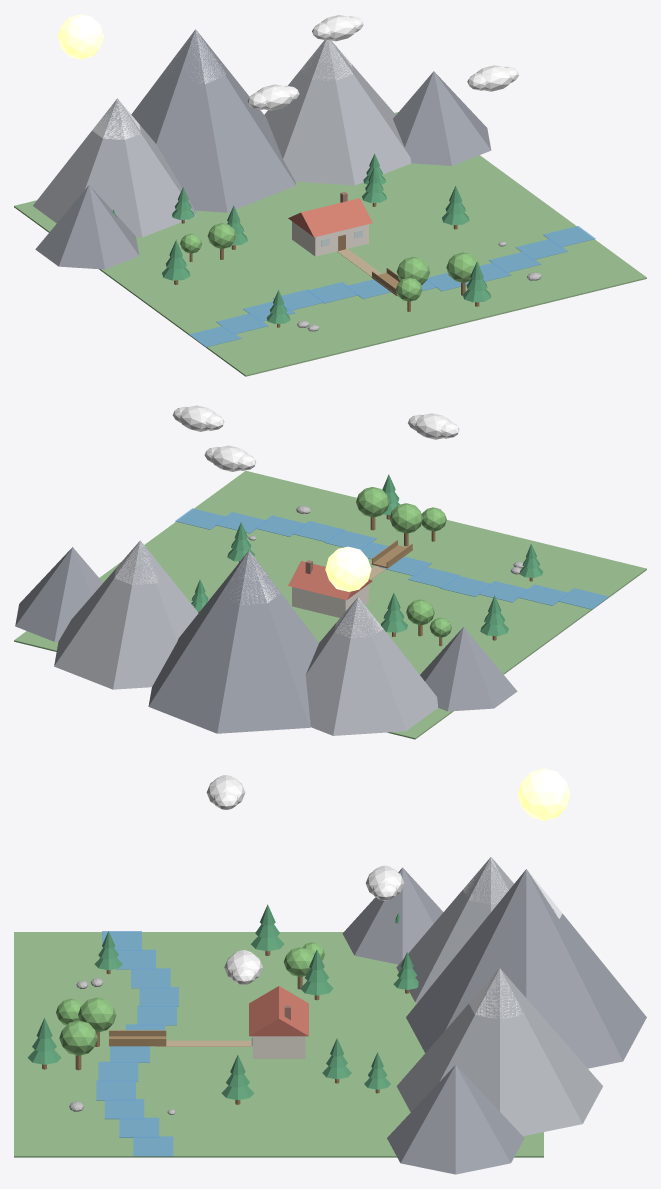
Rendered from house_scene.glb.
3 renders of one model, top to bottom at view 1: azimuth 30°, elevation 25°; view 2: azimuth 150°, elevation 25°; view 3: azimuth 270°, elevation 25°, orthographic. The views are drawn at different scales.
Visible parts, largest first — view 1: ground, mountain_1, mountain_2, mountain_0, mountain_3, mountain_4, house_roof, sun, house_walls, snow_0, crown_0, crown_10 (+11 smaller); view 2: ground, mountain_1, mountain_2, mountain_0, mountain_4, mountain_3, sun, house_walls, house_roof, crown_0, crown_10, snow_2 (+18 smaller); view 3: ground, mountain_1, mountain_2, mountain_3, mountain_0, mountain_4, house_roof, sun, house_walls, crown_0, snow_2, crown_10 (+16 smaller).
Boxes of the visible parts, <box> form: ground: <box>14,112,646,376</box>; mountain_1: <box>131,29,296,212</box>; mountain_2: <box>264,40,411,185</box>; mountain_0: <box>33,98,196,237</box>; mountain_3: <box>393,71,491,165</box>; mountain_4: <box>35,185,139,269</box>; house_roof: <box>288,198,372,237</box>; sun: <box>57,14,103,59</box>; house_walls: <box>292,221,368,256</box>; snow_0: <box>92,99,140,139</box>; crown_0: <box>446,252,479,282</box>; crown_10: <box>396,256,430,285</box>; ground: <box>14,471,646,739</box>; mountain_1: <box>148,550,318,733</box>; mountain_2: <box>54,540,198,689</box>; mountain_0: <box>305,597,438,735</box>; mountain_4: <box>420,627,517,711</box>; mountain_3: <box>15,547,102,641</box>; sun: <box>325,546,371,591</box>; house_walls: <box>292,584,368,617</box>; house_roof: <box>288,561,372,600</box>; crown_0: <box>356,487,389,517</box>; crown_10: <box>389,503,423,533</box>; snow_2: <box>114,541,157,584</box>; ground: <box>14,932,543,1157</box>; mountain_1: <box>406,869,646,1068</box>; mountain_2: <box>396,968,602,1136</box>; mountain_3: <box>387,1065,524,1174</box>; mountain_0: <box>396,857,513,1002</box>; mountain_4: <box>342,867,443,964</box>; house_roof: <box>249,986,308,1036</box>; sun: <box>517,768,570,820</box>; house_walls: <box>252,1036,305,1058</box>; crown_0: <box>59,1020,97,1055</box>; snow_2: <box>469,968,520,1018</box>; crown_10: <box>78,997,116,1032</box>.
Size of the model in its own units: 69.31 by 27.65 by 71.65.
